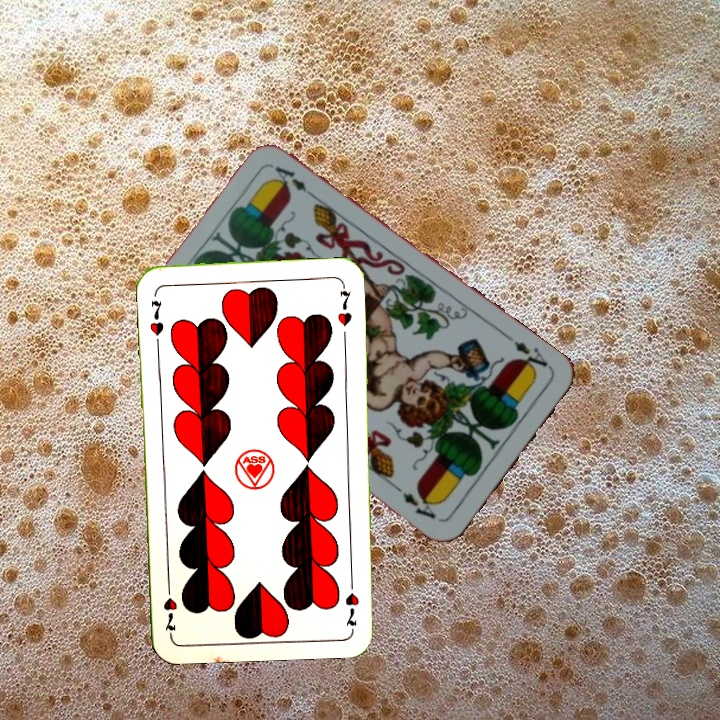EA: (510, 336, 554, 377)
H7: (341, 572, 362, 631), (145, 296, 167, 338)
